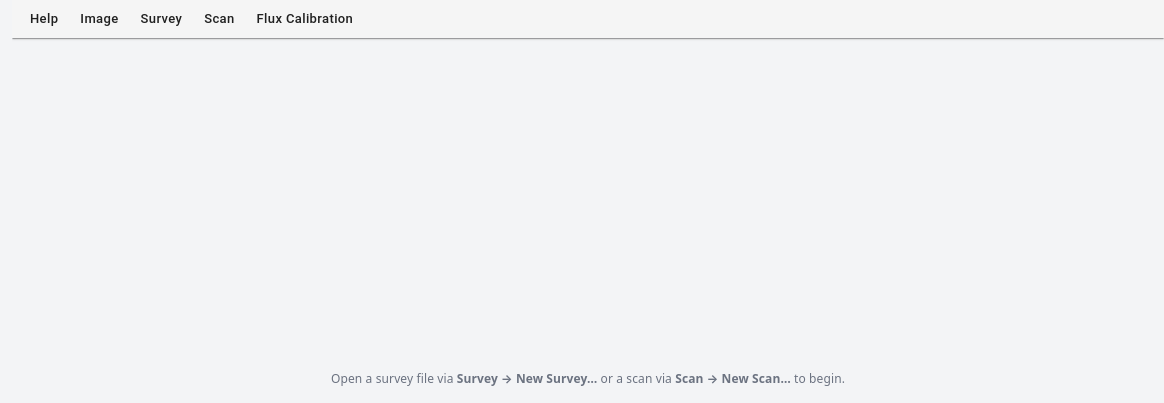
Test: save survey menu items respect hasSurvey and savePath state
The image size is (1164, 403).
Click the button "Survey". click: (161, 19)
box: 131,6 -> 192,32
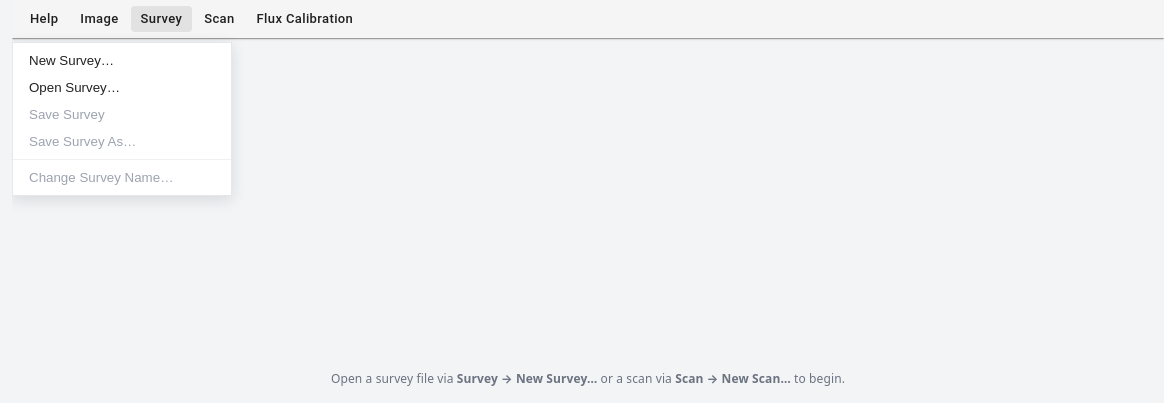
Expected: the menu item "Save Survey" is disabled, 13,101 -> 231,128
Expected: the menu item "Save Survey As…" is disabled, 13,128 -> 231,155
